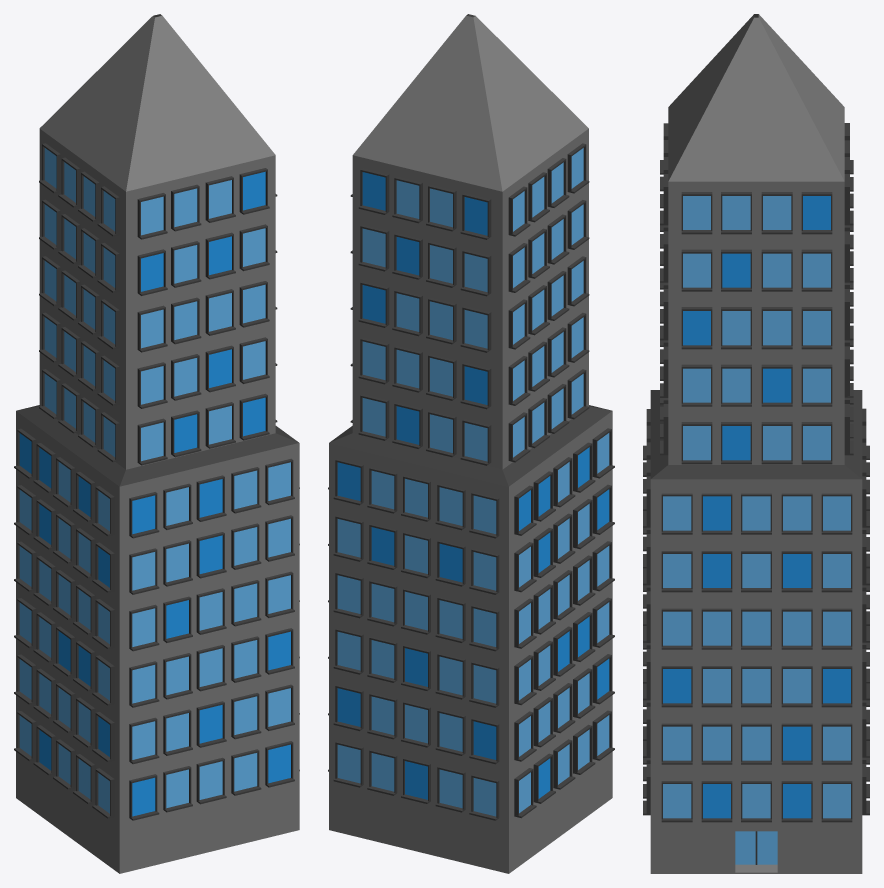
File: building_04.fbx
3 renders of one model, left to right at view 1: azimuth 30°, elevation 25°; view 2: azimuth 150°, elevation 25°; view 3: azimuth 270°, elevation 25°, orthographic.
Parts seen in each view (by area): view 1: building_04; view 2: building_04; view 3: building_04.
Part boxes in pixels (box(x1,y1,x2,y2)): building_04: box(14, 14, 299, 873); building_04: box(328, 14, 614, 873); building_04: box(643, 14, 869, 873).
Size of the model in its own units: 1072 by 4242 by 1072.
1 material, 1 textured.
